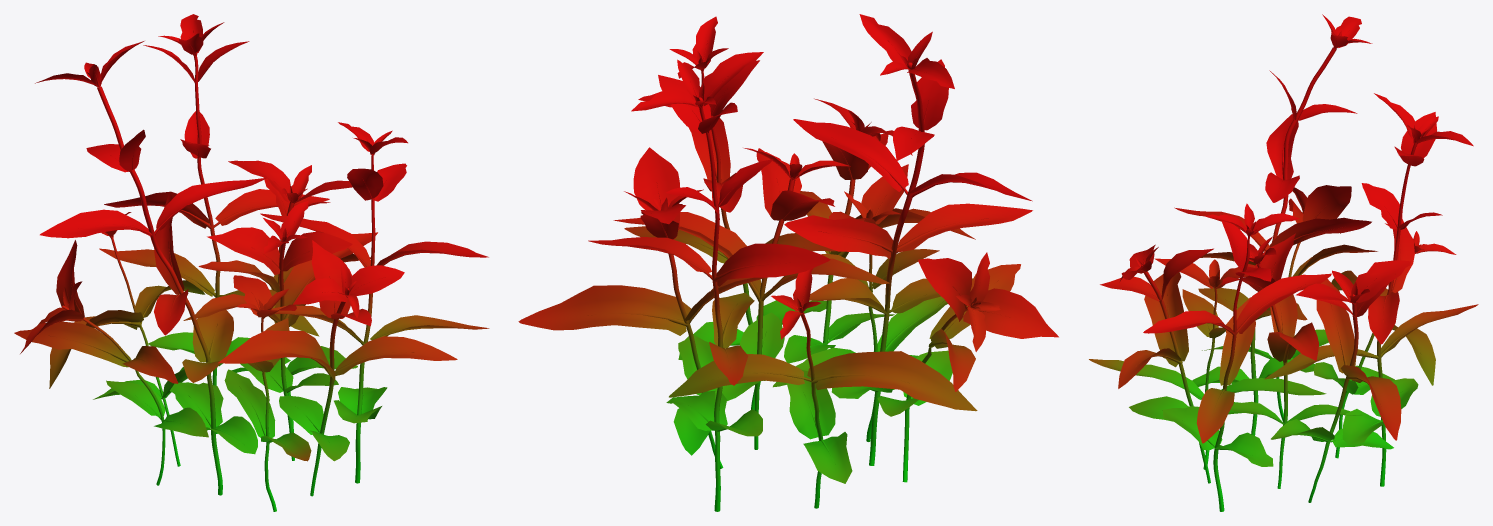
The model's file is Var4_LOD0.fbx.
3 renders of one model, left to right at view 1: azimuth 30°, elevation 25°; view 2: azimuth 150°, elevation 25°; view 3: azimuth 270°, elevation 25°, orthographic. The views are drawn at different scales.
Visible parts, largest first — view 1: _lugl_Var4_LOD0; view 2: _lugl_Var4_LOD0; view 3: _lugl_Var4_LOD0.
Boxes of the visible parts, x1=… form: _lugl_Var4_LOD0: x1=14, y1=14, x2=489, y2=511; _lugl_Var4_LOD0: x1=518, y1=14, x2=1058, y2=511; _lugl_Var4_LOD0: x1=1089, y1=14, x2=1478, y2=511.
Bounding box in the file's own units: 38.88 × 38.2 × 33.25.
